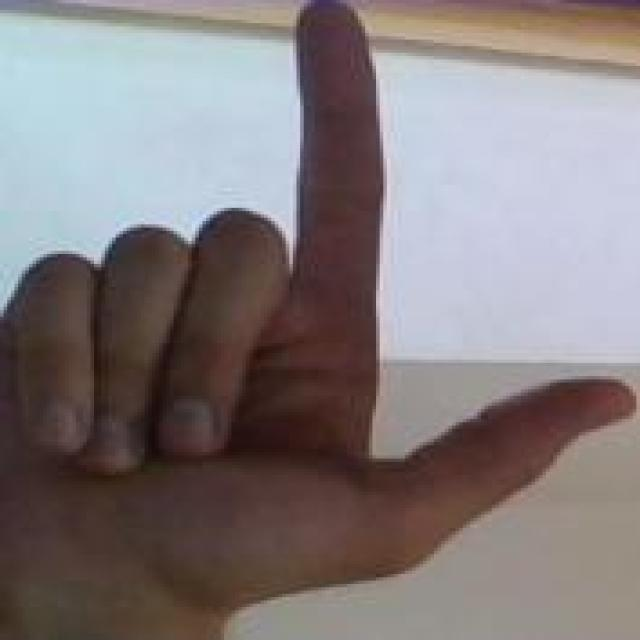L: (11, 3, 636, 640)
